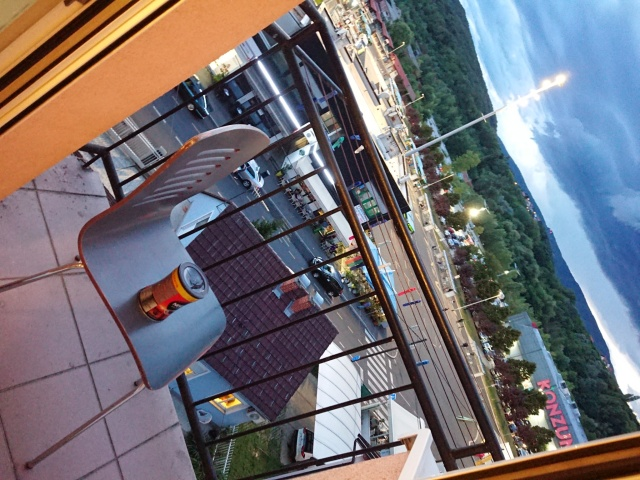Nescafe Classic 225g: (134, 260, 211, 324)
